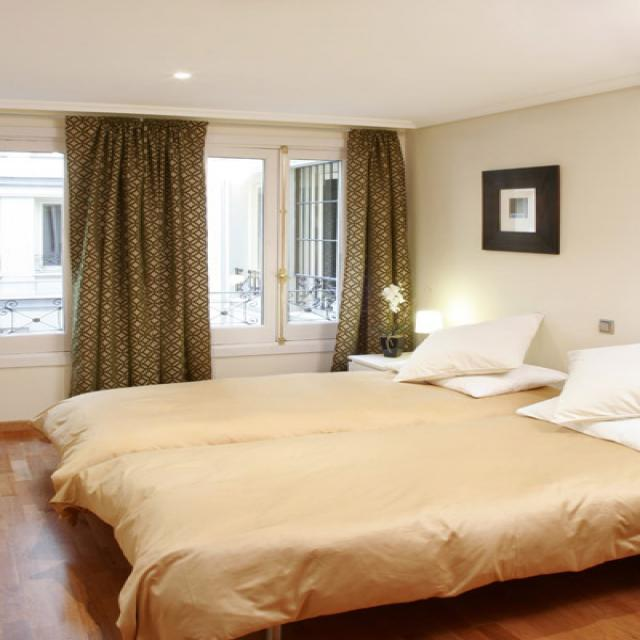bed -occluded-: (43, 345, 635, 639), (30, 347, 562, 482)
ceiling beam: (2, 0, 635, 132)
curtain crop: (61, 114, 213, 395), (333, 128, 410, 371)
cushio: (379, 313, 541, 380)
cushion occluded: (525, 345, 634, 425)
floor -X: (2, 396, 635, 639)
flower basket: (381, 281, 406, 342)
lamp crop: (171, 70, 192, 82)
large window crop: (2, 135, 366, 354)
night table: (346, 348, 406, 370)
picture crop: (482, 166, 558, 253)
pillow: (426, 363, 554, 396)
vase -X: (378, 334, 405, 353)
wall clock: (2, 108, 406, 435), (400, 87, 635, 487)
